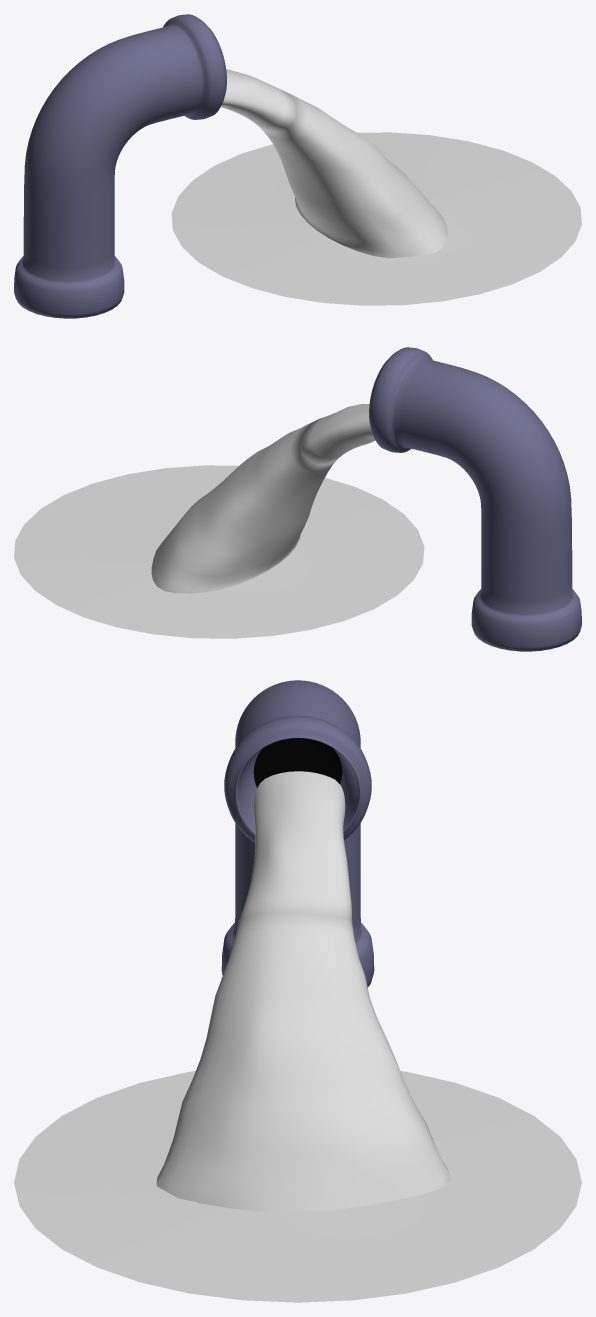
The model's file is Leaky_Pipe03 2.fbx.
The picture shows the model from 3 angles, top to bottom: view 1: azimuth 30°, elevation 25°; view 2: azimuth 150°, elevation 25°; view 3: azimuth 270°, elevation 25°; orthographic projection. The views are drawn at different scales.
Parts seen in each view (by area): view 1: Cylinder, Pipe, Flow; view 2: Cylinder, Pipe, Flow; view 3: Cylinder, Flow, Pipe.
Boxes of the visible parts, x1,y1,x2,y2 form: Cylinder: [171, 132, 581, 305]; Pipe: [14, 14, 226, 318]; Flow: [221, 69, 448, 258]; Cylinder: [14, 465, 424, 638]; Pipe: [369, 347, 581, 651]; Flow: [151, 404, 375, 593]; Cylinder: [14, 1071, 581, 1302]; Flow: [156, 771, 451, 1211]; Pipe: [221, 680, 374, 987].
Size of the model in its own units: 1851 by 825 by 1236.
